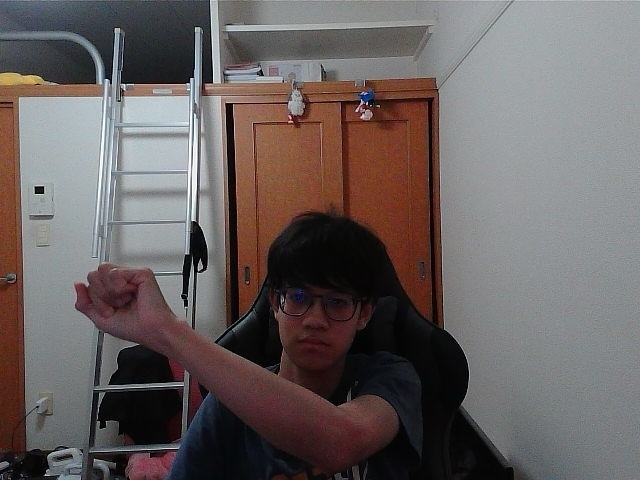closed_palm: (79, 272, 146, 331)
